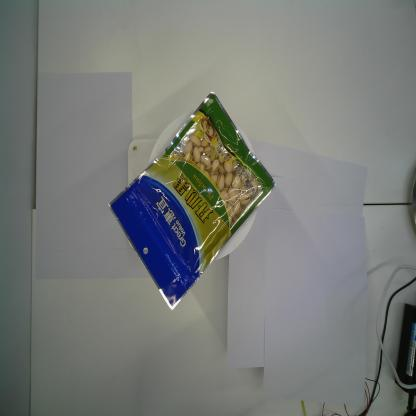Dried Fruit: (107, 91, 276, 311)
